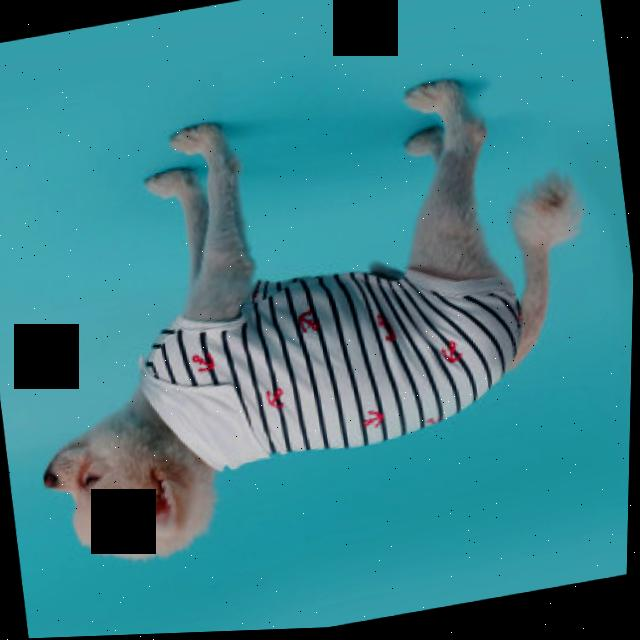cloth: (143, 272, 520, 472)
